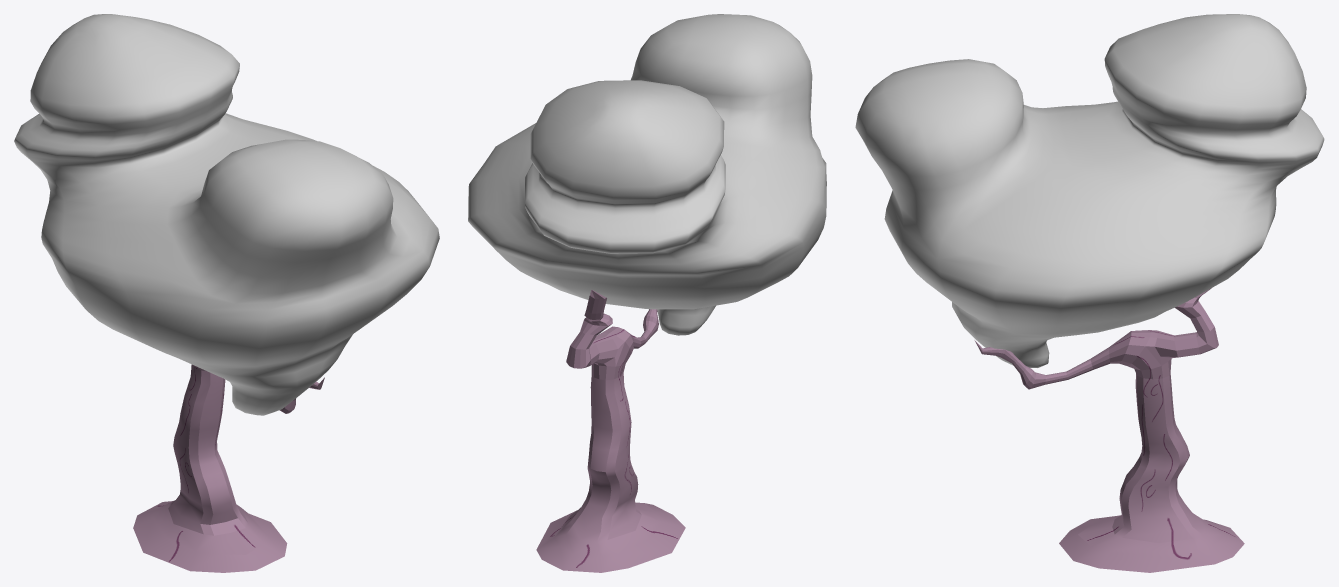
The model's file is Tree.fbx.
The picture shows the model from 3 angles, left to right: view 1: azimuth 30°, elevation 25°; view 2: azimuth 150°, elevation 25°; view 3: azimuth 270°, elevation 25°; orthographic projection. The views are drawn at different scales.
Visible parts, largest first — view 1: pCube2, pCube1; view 2: pCube2, pCube1; view 3: pCube2, pCube1.
Part boxes in pixels (box(x1,y1,x2,y2)): pCube2: box(14, 14, 439, 415); pCube1: box(133, 364, 324, 572); pCube2: box(468, 14, 826, 335); pCube1: box(536, 290, 685, 572); pCube2: box(855, 14, 1324, 367); pCube1: box(974, 288, 1244, 572).
Size of the model in its own units: 7.62 by 10.87 by 9.3.
